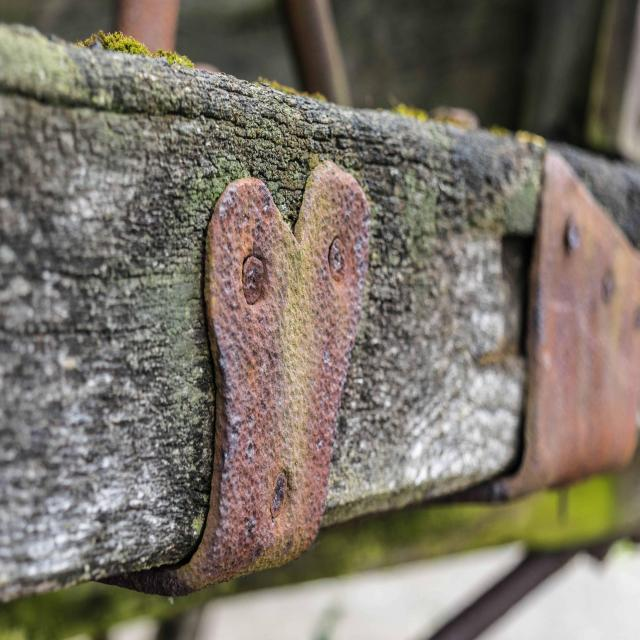non-corrosion: (183, 152, 379, 602), (484, 138, 640, 508)
